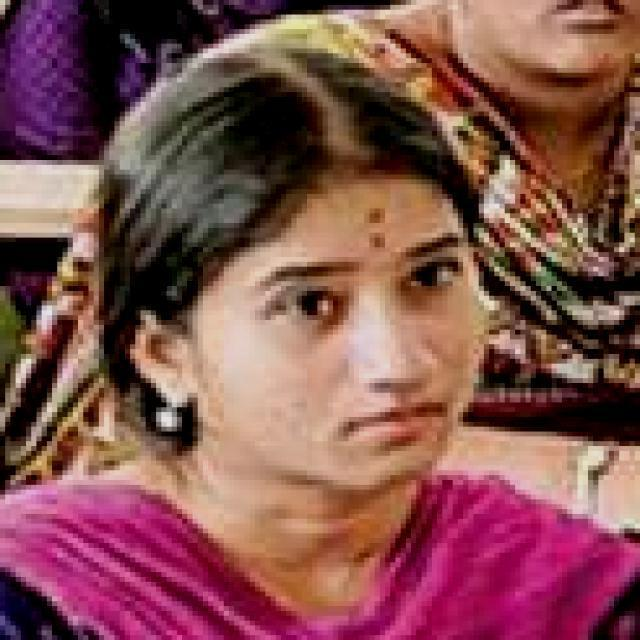Looking forward: (192, 171, 492, 482)
